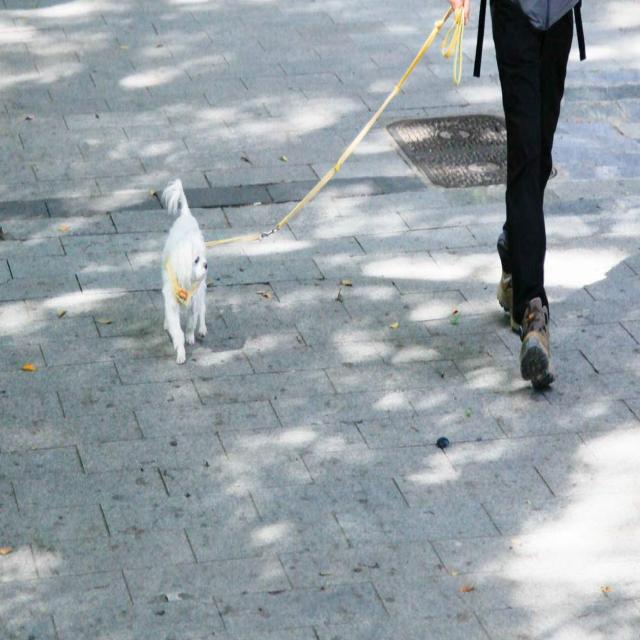Leashed_Dog: (161, 0, 556, 366)
